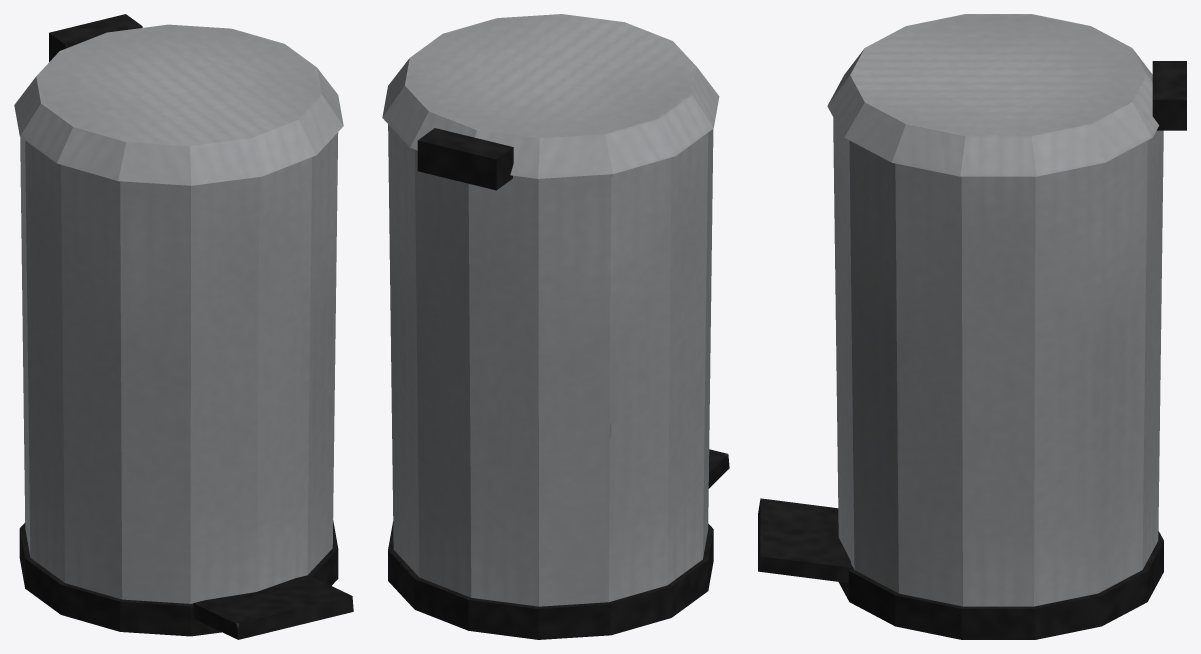
The model's file is Bin_Pedal.fbx.
3 views of the same model, side by side, from view 1: azimuth 30°, elevation 25°; view 2: azimuth 150°, elevation 25°; view 3: azimuth 270°, elevation 25° (orthographic). The views are drawn at different scales.
Parts seen in each view (by area): view 1: мусорка прикольная; view 2: мусорка прикольная; view 3: мусорка прикольная.
Boxes of the visible parts, <box> form: мусорка прикольная: <box>14,14,353,639</box>; мусорка прикольная: <box>382,14,729,639</box>; мусорка прикольная: <box>758,14,1186,639</box>.
Bounding box in the file's own units: 0.2925 × 0.48 × 0.3757.
1 material, 1 textured.
